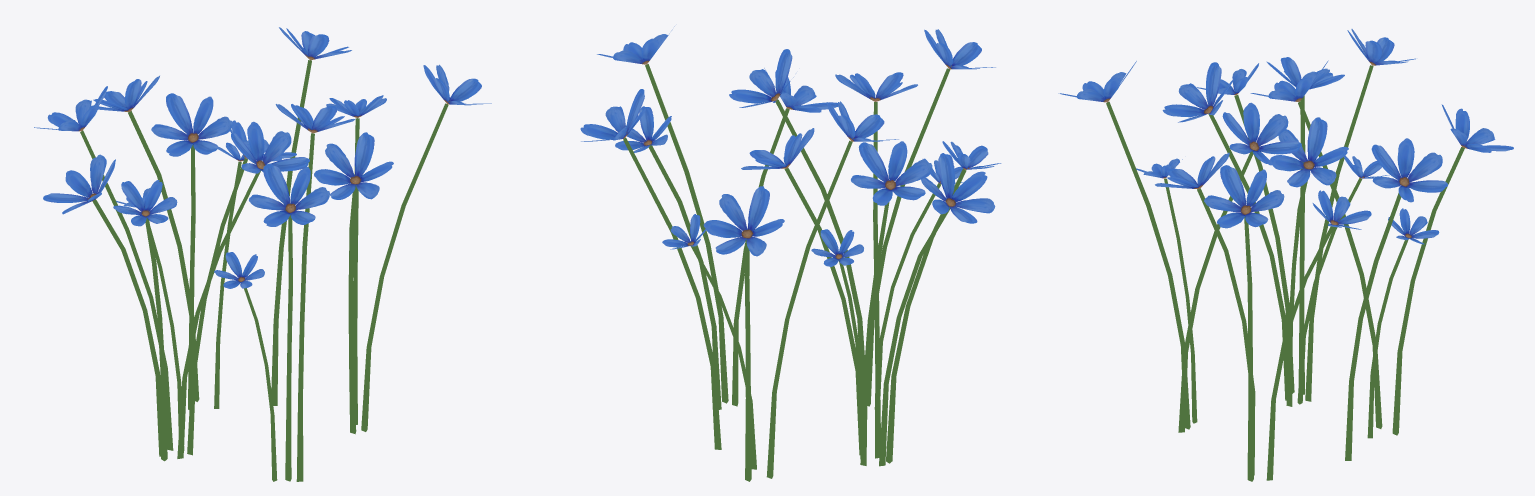
Rendered from MEADOW_SM_Flower_03_03.gltf.
The picture shows the model from 3 angles, left to right: view 1: azimuth 30°, elevation 25°; view 2: azimuth 150°, elevation 25°; view 3: azimuth 270°, elevation 25°; orthographic projection. The views are drawn at different scales.
Visible parts, largest first — view 1: SM_Flower_03_03_LOD0; view 2: SM_Flower_03_03_LOD0; view 3: SM_Flower_03_03_LOD0.
Boxes of the visible parts, x1,y1,x2,y2 form: SM_Flower_03_03_LOD0: (34,27,491,481); SM_Flower_03_03_LOD0: (580,26,1001,481); SM_Flower_03_03_LOD0: (1058,29,1513,481).
Size of the model in its own units: 0.8387 by 0.6475 by 0.7611.
Materials: 1 (1 with a texture image).
